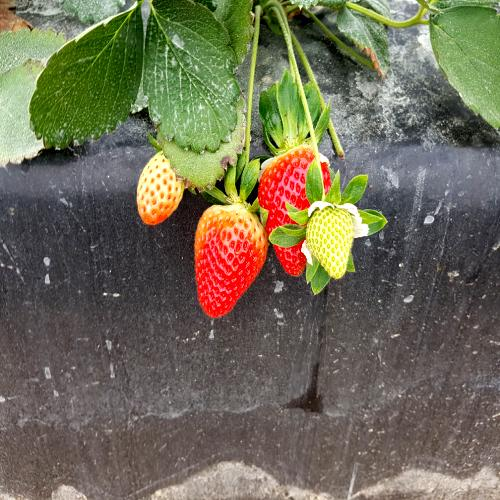partially-ripe: (188, 198, 270, 324), (134, 146, 182, 226)
ripe: (251, 152, 333, 280)
